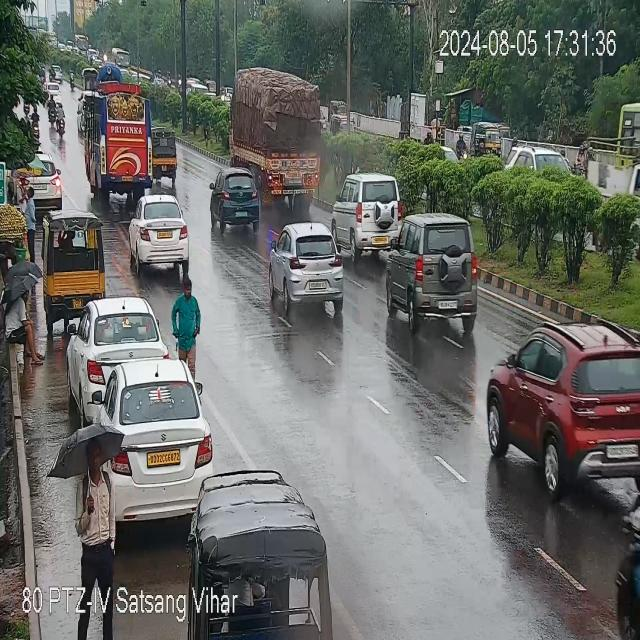2-wheelers: (57, 103, 65, 136), (49, 96, 54, 122)
auto: (242, 461, 344, 640), (384, 212, 480, 336), (270, 222, 349, 321), (42, 213, 105, 316), (334, 173, 404, 258), (128, 194, 189, 269), (208, 169, 258, 230), (148, 130, 178, 178)
bus: (582, 60, 638, 220), (86, 77, 154, 196)
car: (479, 321, 639, 488), (85, 363, 209, 532), (69, 296, 169, 394), (15, 154, 66, 208)
pedestrian: (73, 436, 120, 576), (3, 283, 46, 369), (177, 274, 200, 364), (24, 188, 38, 259)
truck: (232, 61, 334, 227)
